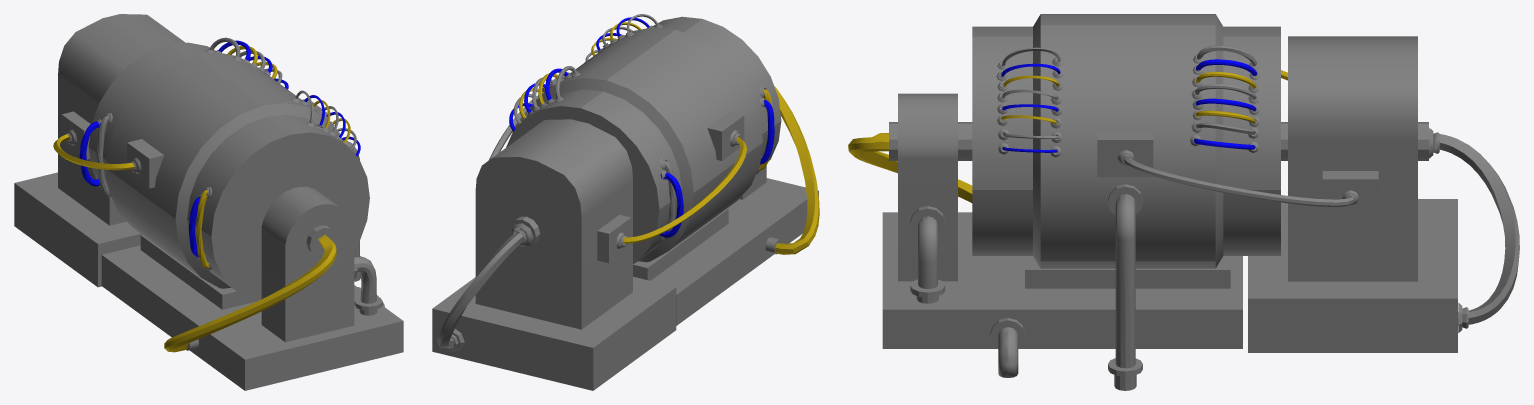
File: SM_turbine1.FBX
3 views of the same model, side by side, from view 1: azimuth 30°, elevation 25°; view 2: azimuth 150°, elevation 25°; view 3: azimuth 270°, elevation 25° (orthographic). The views are drawn at different scales.
Parts seen in each view (by area): view 1: SM_turbine1_LOD0; view 2: SM_turbine1_LOD0; view 3: SM_turbine1_LOD0.
Boxes of the visible parts, x1,y1,x2,y2 form: SM_turbine1_LOD0: (14, 14, 403, 390); SM_turbine1_LOD0: (432, 14, 819, 390); SM_turbine1_LOD0: (848, 14, 1519, 390).
Size of what is drawn, in the model's own units: 207 by 181 by 379.
